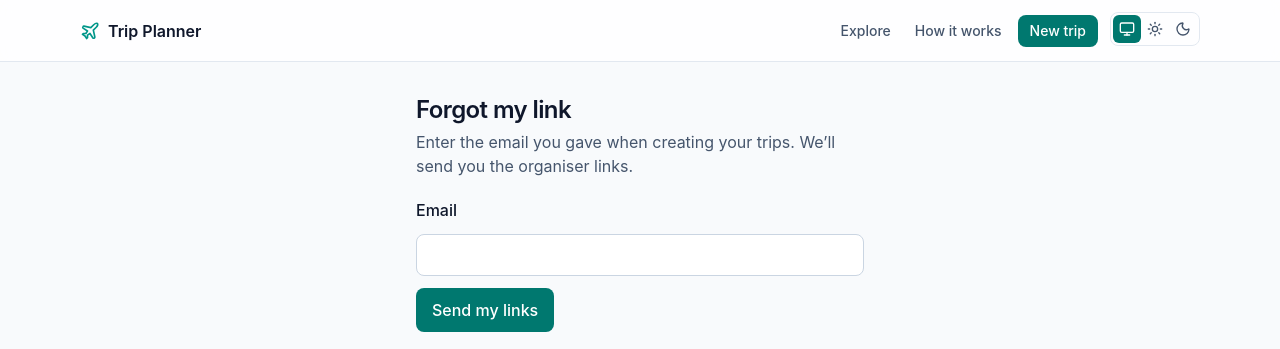
Test: RecoverPage (F10, AC12.4–12.5) › always shows the same confirmation
In the field labelled "Email": x=640, y=255 [416, 234, 864, 276], type "me@example.com"
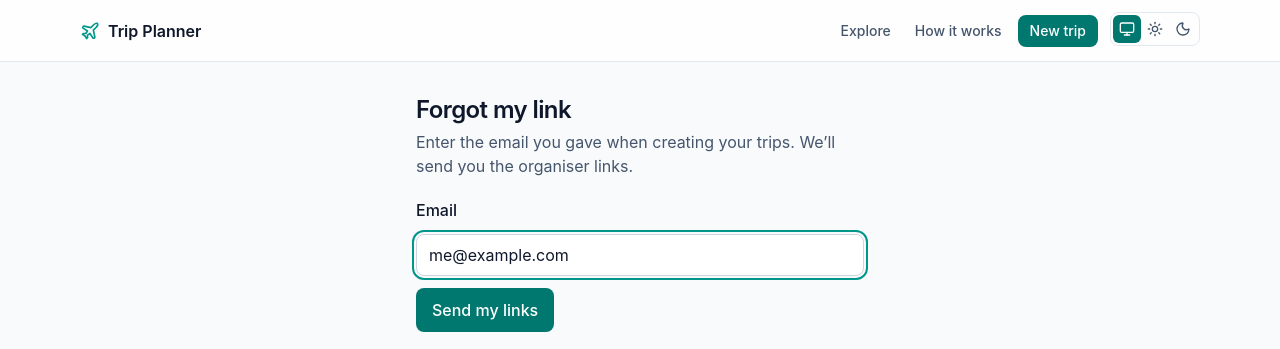
Click the button "Send my links": x=485, y=310 [416, 288, 554, 332]
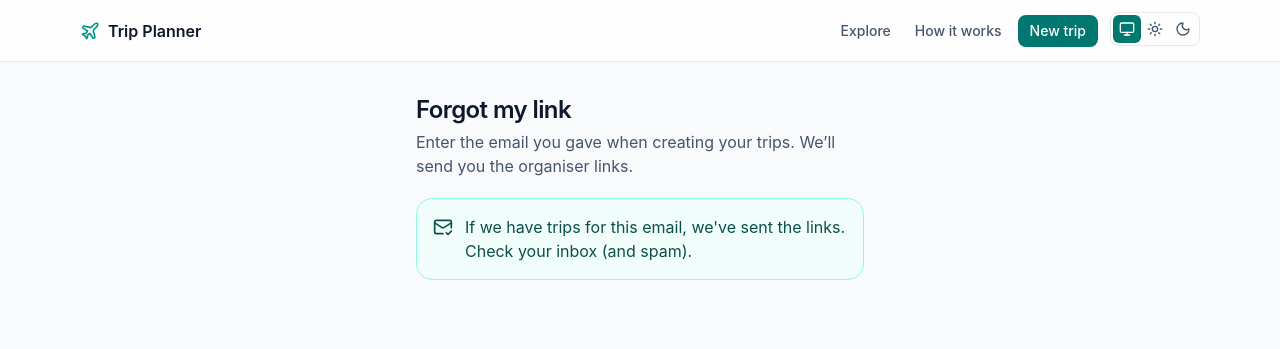
Expected: the text "If we have trips for this email" is shown, [465, 217, 845, 237]
